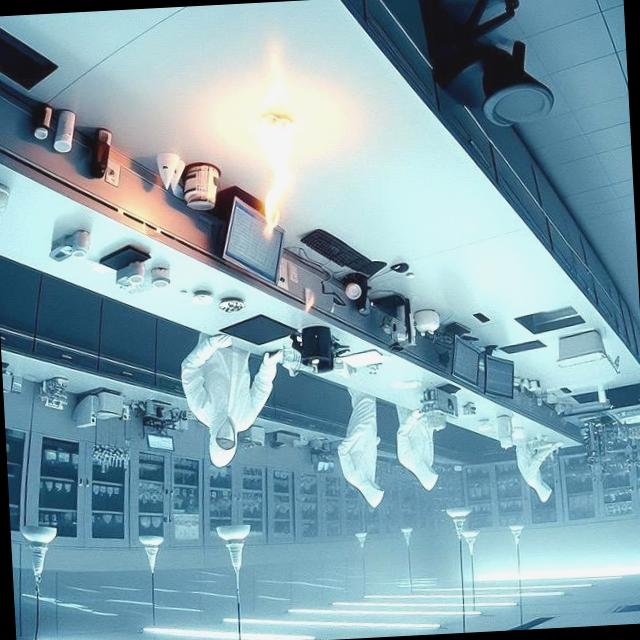fire: (222, 76, 314, 272)
